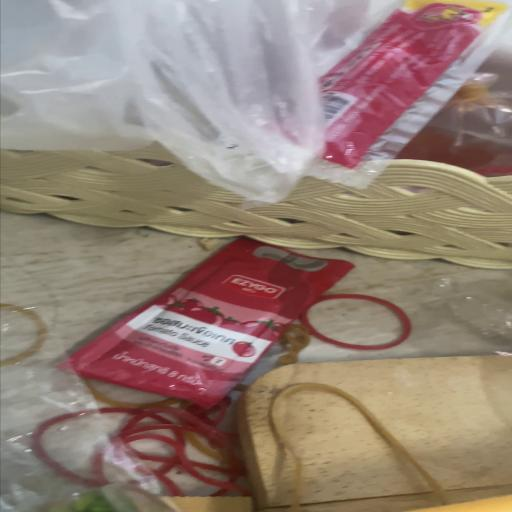brand_golden_good: (232, 354, 512, 510)
